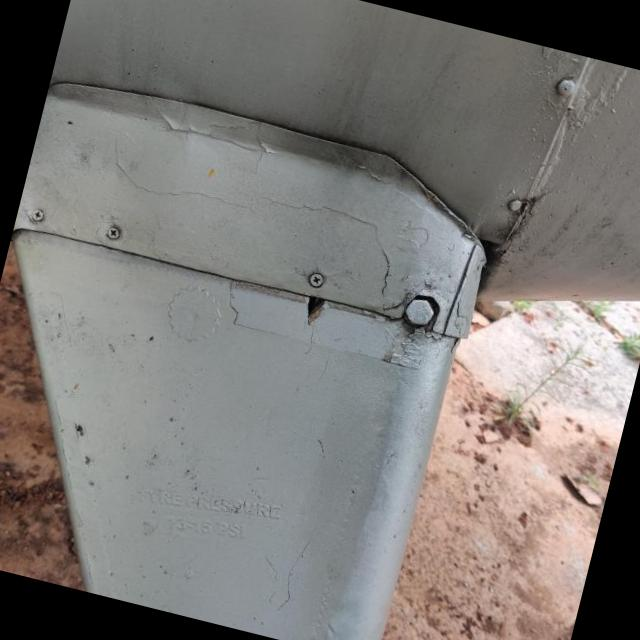Crack: (307, 297, 325, 324)
